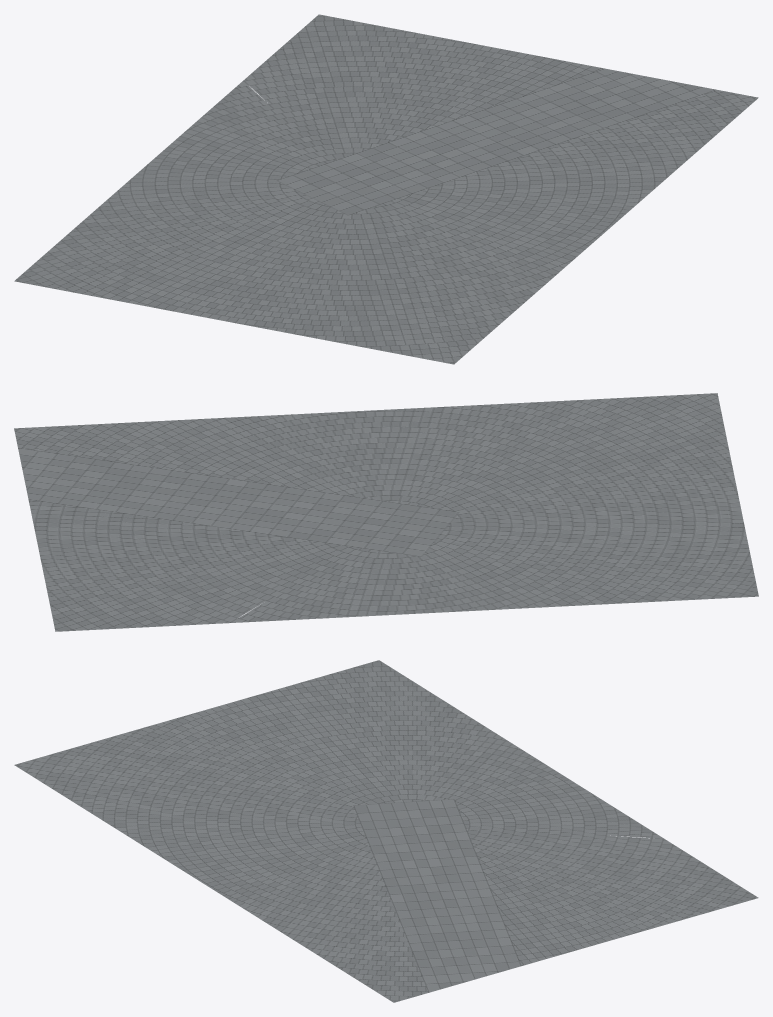
The model's file is radial_paving_OPTIMIZED_DISABLED-Cd7lIIW6.glb.
The picture shows the model from 3 angles, top to bottom: view 1: azimuth 30°, elevation 25°; view 2: azimuth 150°, elevation 25°; view 3: azimuth 270°, elevation 25°; orthographic projection. The views are drawn at different scales.
Parts seen in each view (by area): view 1: fit_local_fan_paving; view 2: fit_local_fan_paving; view 3: fit_local_fan_paving.
Boxes of the visible parts, box(x1,y1,x2,y2) form: fit_local_fan_paving: box(14, 14, 758, 364); fit_local_fan_paving: box(14, 393, 758, 631); fit_local_fan_paving: box(14, 660, 758, 1002).
Size of the model in its own units: 12.53 by 0.2044 by 11.7.
Materials: 1 (1 with a texture image).
